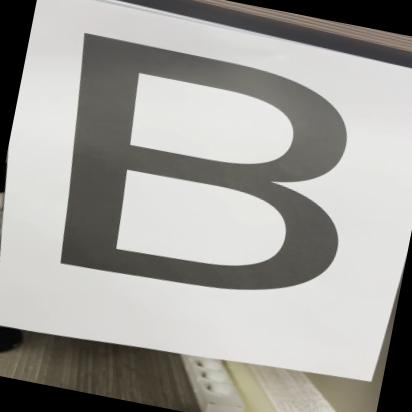seat: (25, 21, 382, 325)
